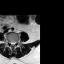CCS_stenosis: (12, 40, 13, 47)
LFS_normal: (15, 39, 17, 45)
LLS_normal: (13, 40, 15, 46)
RFS_normal: (8, 39, 10, 45)
RLS_normal: (10, 40, 12, 46)
